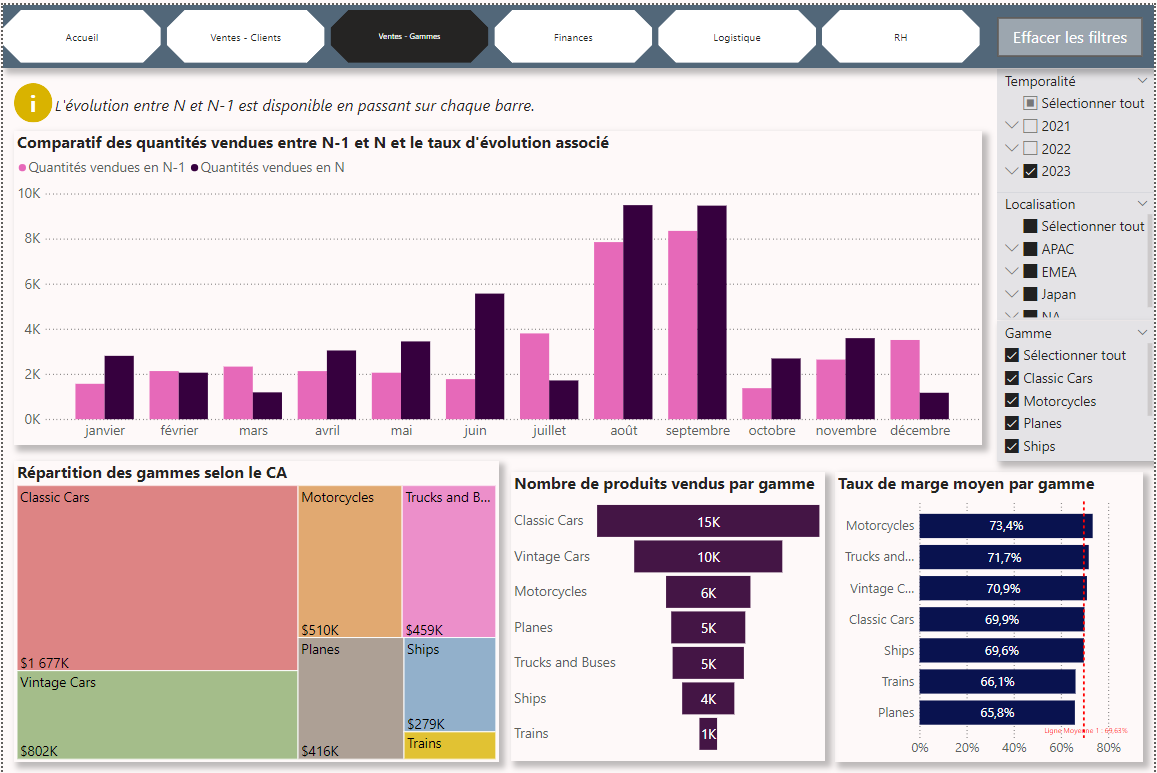

Layout of this report page (visuals, bound fields, positions):
{"tool":"powerbi","page":{"name":"Ventes - Gammes","canvas":[1920,1280],"ordinal":2},"visuals":[{"type":"slicer","fields":{"Values":["Calendar.Full.Variation.Hiérarchie de dates.Année","Calendar.Full.Variation.Hiérarchie de dates.Mois"]},"box":[1656,106,264,206],"z":0},{"type":"textbox","box":[0,0,1920,105],"z":1000},{"type":"pageNavigator","box":[0,8.3,1631.7,88.3],"z":2000},{"type":"actionButton","box":[1656.7,20,243.3,66.7],"z":3000},{"type":"slicer","fields":{"Values":["toys_and_models offices.territory","toys_and_models offices.country","toys_and_models offices.city"]},"box":[1656,312,264,214],"z":4000},{"type":"clusteredColumnChart","title":"Comparatif des quantités vendues entre N-1 et N et le taux d''évolution associé","fields":{"Category":["Calendar.Full.Variation.Hiérarchie de dates.Mois"],"Y":["toys_and_models orderdetails.nbVenduLastYear","Sum(toys_and_models orderdetails.quantityOrdered)"]},"box":[18,210,1614,524],"z":5000},{"type":"treemap","title":"Répartition des gammes selon le CA","fields":{"Values":["Sum(toys_and_models orderdetails.CA calculé)"],"Group":["toys_and_models productlines.productLine"]},"box":[18,760,808,502],"z":6000},{"type":"clusteredBarChart","title":"Taux de marge moyen par gamme","fields":{"Y":["Avg(toys_and_models orderdetails.Taux marge)"],"Category":["toys_and_models products.productLine"]},"box":[1386,778,514,484],"z":7000},{"type":"funnel","title":"Nombre de produits vendus par gamme","fields":{"Y":["Sum(toys_and_models orderdetails.quantityOrdered)"],"Category":["toys_and_models productlines.productLine"]},"box":[846,778,524,482],"z":8000},{"type":"slicer","fields":{"Values":["toys_and_models products.productLine"]},"box":[1656,526,264,234],"z":9000},{"type":"shape","box":[18,130,64,66],"z":10000},{"type":"textbox","box":[82,144,818,66],"z":11000}]}

Visuals, with their boxes in screenshot pixels (x1, y1, x2, y2), scaled from the page's 1920x1280 canvas onto the 1157x773 screenshot:
slicer - Calendar.Full.Variation.Hiérarchie de dates.Année x Calendar.Full.Variation.Hiérarchie de dates.Mois: <box>998,64,1156,188</box>
textbox: <box>0,0,1156,63</box>
pageNavigator: <box>0,5,983,58</box>
actionButton: <box>998,12,1145,52</box>
slicer - toys_and_models offices.territory x toys_and_models offices.country: <box>998,188,1156,318</box>
"Comparatif des quantités vendues entre N-1 et N et le taux d''évolution associé" clusteredColumnChart: <box>11,127,983,443</box>
"Répartition des gammes selon le CA" treemap: <box>11,459,498,762</box>
"Taux de marge moyen par gamme" clusteredBarChart: <box>835,470,1145,762</box>
"Nombre de produits vendus par gamme" funnel: <box>510,470,826,761</box>
slicer - toys_and_models products.productLine: <box>998,318,1156,459</box>
shape: <box>11,79,49,118</box>
textbox: <box>49,87,542,127</box>
